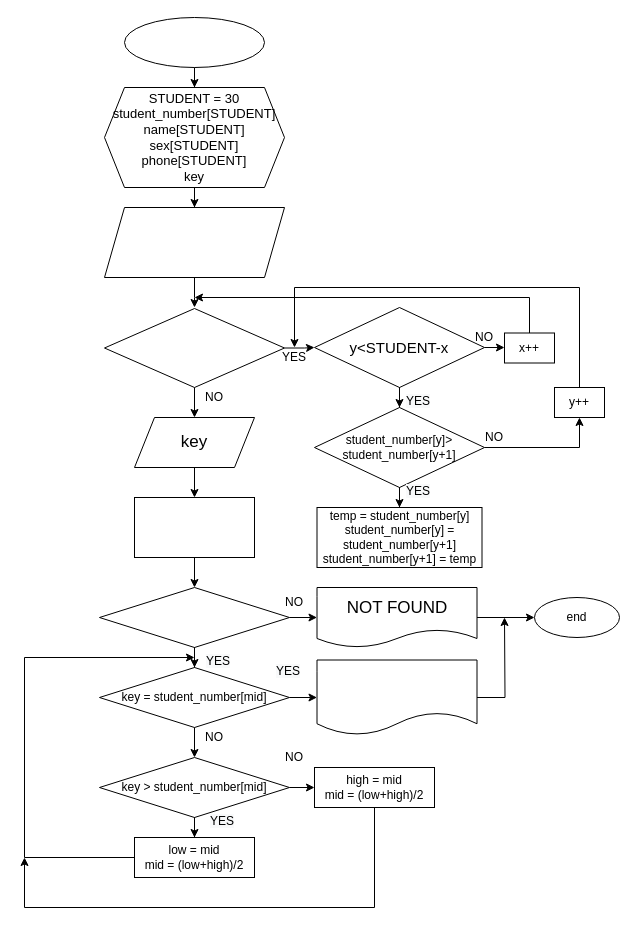
This 637x933 diagram has some shape labels left out. The centre of each missing label's shape, as x and y in pixels:
"low < high" belongs at (x=194, y=617).
"low = 0 high = STUDENT mid = (low+high)/2" belongs at (x=194, y=527).
"START" belongs at (x=194, y=42).
"student_name name sex phone" belongs at (x=194, y=242).
"student_number[mid] name[mid] sex[mid] phone[mid]" belongs at (x=396, y=697).
"x<STUDENT" belongs at (x=194, y=348).
